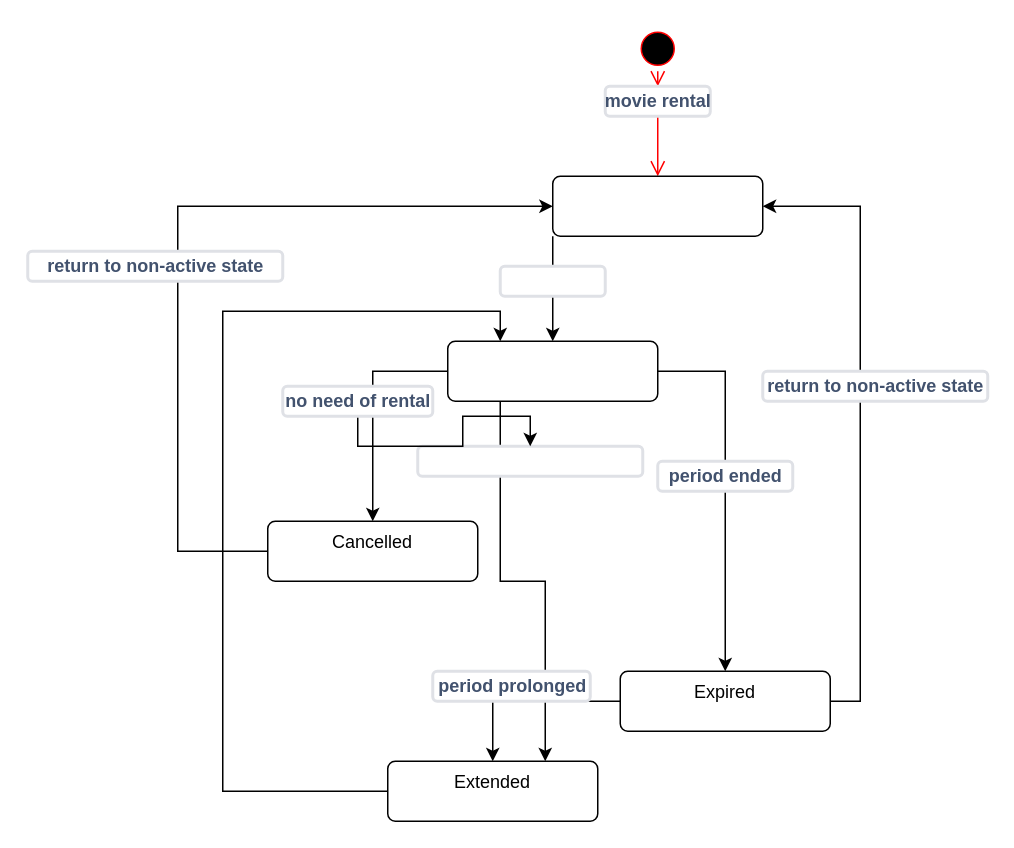
Some shapes in this 1014 by 848 pixel diagram are drawn without their labels. Here are the shapes that lost their labels. From the top down, the box of each, then its label:
(551, 175, 763, 236): Non-active
(498, 264, 606, 297): rented
(446, 340, 658, 401): Active
(416, 444, 644, 477): more time before ending
